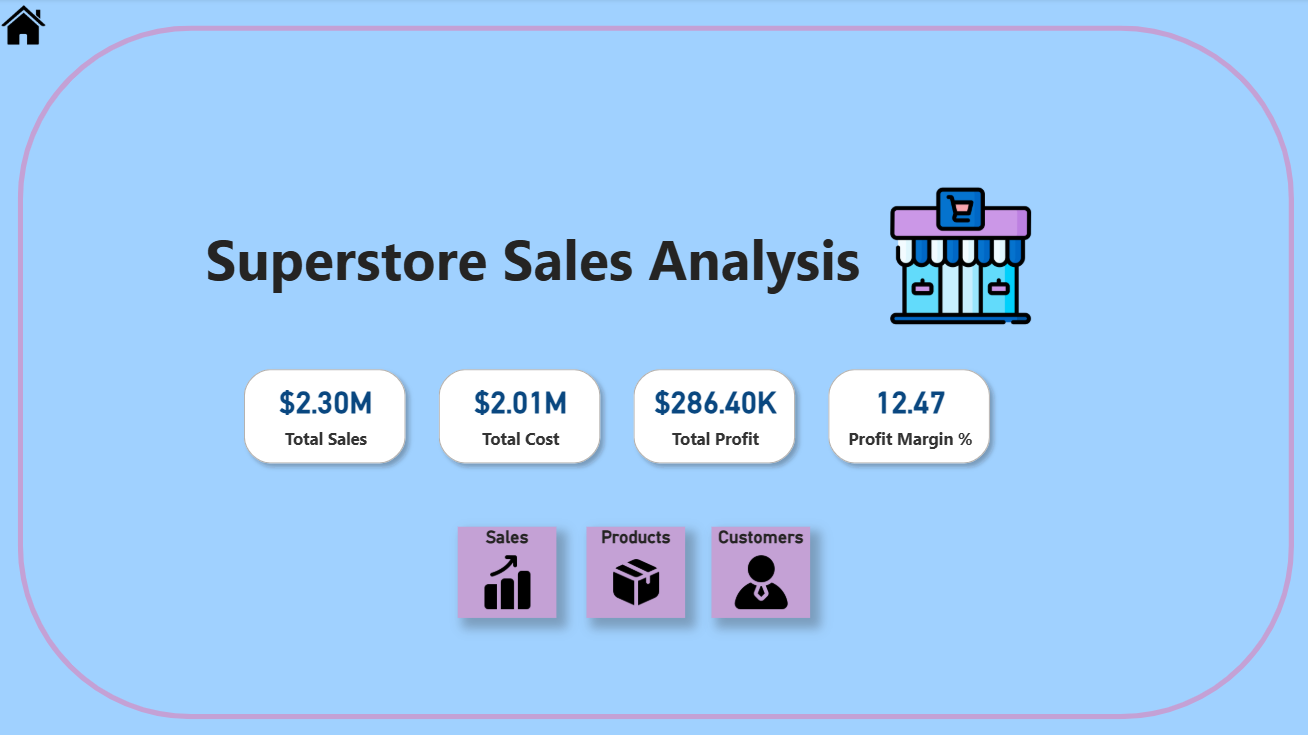

The dashboard page shown, as its layout file describes it:
{"tool":"powerbi","page":{"name":"Home","canvas":[1280,720],"ordinal":0},"visuals":[{"type":"shape","box":[22.9,26.5,1231.8,669.6],"z":0},{"type":"image","box":[860.4,175.7,146,146],"z":1000},{"type":"textbox","box":[199.3,209.4,674.4,102.5],"z":2000},{"type":"image","title":"Sales","box":[447.1,510.3,95.3,88.1],"z":3000},{"type":"image","title":"Products","box":[571.4,510.3,95.3,88.1],"z":4000},{"type":"image","title":"Customers","box":[692,510.3,95.3,88.1],"z":5000},{"type":"image","box":[0,0,56.7,51.9],"z":6000},{"type":"cardVisual","fields":{"Data":["DAXMeasures.Total Sales","DAXMeasures.Total Cost","DAXMeasures.Total Profit","DAXMeasures.Profit Margin %"]},"box":[229.2,346.2,748,115.8],"z":7000}]}

Visuals, with their boxes in screenshot pixels (x1, y1, x2, y2), scaled from the page's 1280x720 canvas onto the 1308x735 screenshot:
shape: [x1=23, y1=27, x2=1282, y2=711]
image: [x1=879, y1=179, x2=1028, y2=328]
textbox: [x1=204, y1=214, x2=893, y2=318]
"Sales" image: [x1=457, y1=521, x2=554, y2=611]
"Products" image: [x1=584, y1=521, x2=681, y2=611]
"Customers" image: [x1=707, y1=521, x2=805, y2=611]
image: [x1=0, y1=0, x2=58, y2=53]
cardVisual - DAXMeasures.Total Sales x DAXMeasures.Total Cost: [x1=234, y1=353, x2=999, y2=472]
